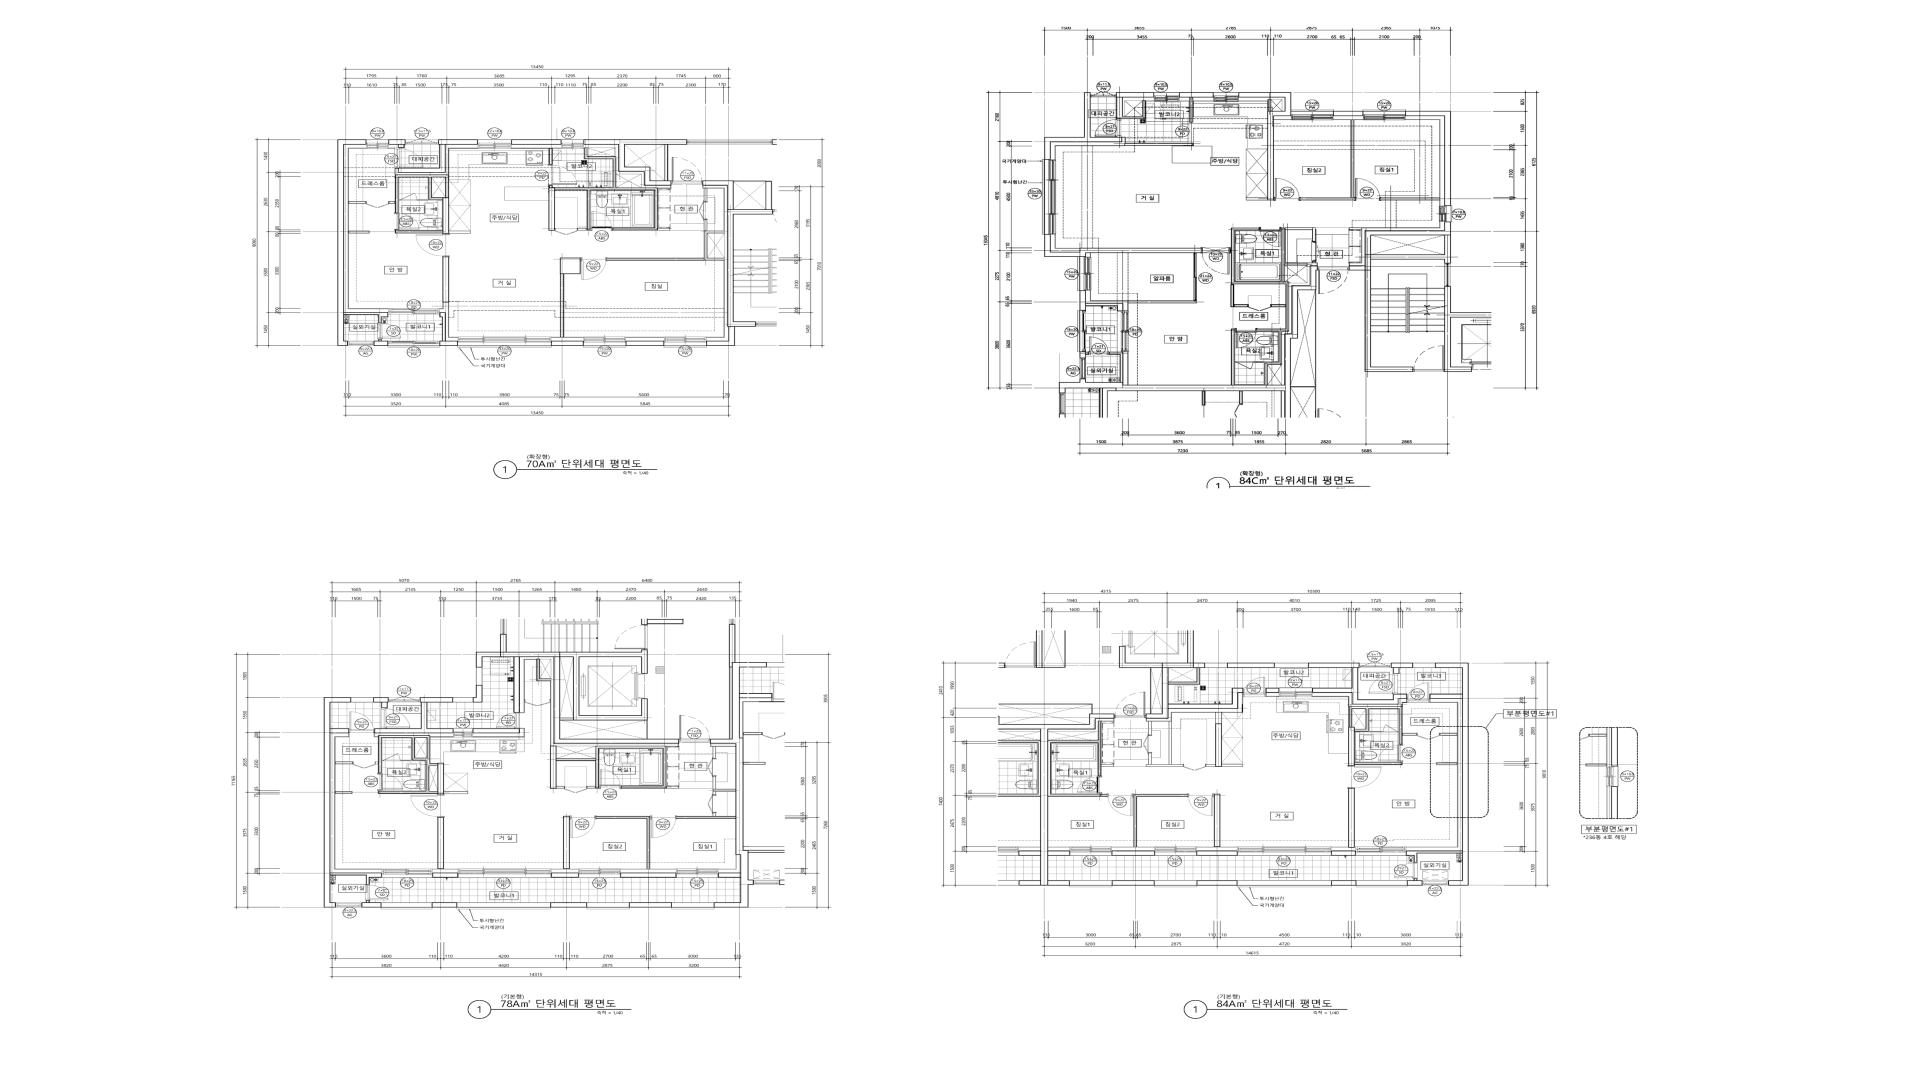door: (1317, 266, 1349, 294), (679, 715, 711, 741), (671, 157, 703, 183), (615, 625, 647, 650), (410, 794, 444, 818), (1201, 248, 1232, 274), (1414, 345, 1444, 372), (1114, 692, 1146, 717), (415, 233, 448, 257), (1349, 766, 1382, 789), (549, 165, 578, 186), (1369, 674, 1399, 694), (650, 816, 676, 839), (1354, 178, 1381, 200), (1274, 178, 1300, 200), (1108, 794, 1134, 816), (1188, 794, 1215, 816), (381, 708, 410, 728), (394, 148, 423, 167), (348, 712, 375, 733), (570, 816, 596, 837), (580, 258, 607, 280), (1095, 119, 1121, 137), (599, 769, 621, 789), (1234, 328, 1257, 348), (591, 211, 613, 231), (1244, 676, 1266, 696), (1407, 683, 1429, 703), (1378, 745, 1403, 762), (1259, 228, 1282, 247), (378, 774, 402, 791), (1077, 777, 1101, 794), (1088, 336, 1109, 355), (378, 323, 401, 339), (1395, 862, 1418, 878), (496, 713, 520, 728), (367, 885, 388, 901), (1193, 253, 1197, 301), (1312, 241, 1320, 262), (525, 699, 550, 705), (1091, 91, 1116, 98), (352, 762, 376, 769), (365, 202, 389, 208), (1416, 733, 1440, 740), (564, 786, 587, 793), (1249, 305, 1271, 311), (555, 228, 578, 235), (708, 758, 716, 777), (1234, 361, 1253, 369), (699, 202, 707, 220), (1143, 735, 1151, 753), (382, 753, 400, 761), (708, 795, 716, 812), (400, 193, 417, 200), (1183, 765, 1207, 770), (1383, 725, 1399, 732)
wall: (1059, 265, 1317, 418), (676, 624, 749, 907), (476, 650, 679, 744), (607, 186, 728, 342), (1349, 222, 1451, 372), (520, 657, 679, 746), (1406, 663, 1469, 886), (1232, 228, 1317, 385), (1040, 713, 1114, 886), (323, 698, 381, 907), (703, 181, 773, 345), (338, 140, 388, 345), (555, 145, 671, 231), (1120, 646, 1244, 719), (1406, 699, 1462, 851), (1146, 692, 1244, 766), (330, 733, 381, 873), (1238, 92, 1291, 200), (1044, 92, 1125, 160), (550, 746, 666, 789), (584, 140, 687, 186), (1300, 120, 1354, 200), (1406, 111, 1451, 206), (1444, 286, 1491, 372), (1308, 663, 1407, 704), (378, 736, 443, 794), (1044, 235, 1201, 257), (1349, 707, 1403, 766), (394, 140, 477, 175), (1134, 794, 1188, 847), (596, 816, 650, 869), (375, 698, 454, 733), (1291, 290, 1316, 388), (389, 175, 448, 214), (551, 274, 583, 342), (1371, 235, 1444, 255), (1312, 694, 1407, 707), (1116, 92, 1154, 119), (512, 145, 562, 165), (1080, 291, 1129, 311), (1048, 719, 1114, 732), (439, 302, 458, 342), (439, 313, 458, 345), (1122, 98, 1154, 116), (472, 728, 525, 737), (707, 233, 725, 258), (1109, 352, 1124, 382), (717, 855, 740, 873), (713, 777, 736, 795), (1232, 285, 1249, 307), (1168, 669, 1197, 682), (709, 744, 736, 758), (563, 816, 570, 869), (560, 257, 580, 274), (438, 818, 444, 869), (1179, 92, 1213, 102), (1349, 789, 1354, 848), (375, 733, 454, 737), (537, 659, 551, 680), (620, 873, 676, 878), (549, 186, 555, 231), (1352, 709, 1366, 729), (1333, 111, 1364, 120), (1216, 724, 1222, 766), (1215, 794, 1220, 847), (641, 618, 683, 625), (587, 148, 616, 157), (512, 140, 562, 145), (1228, 663, 1275, 669), (472, 728, 520, 733), (1391, 663, 1414, 674), (443, 257, 448, 302), (1112, 851, 1155, 856), (620, 869, 676, 873), (1112, 881, 1154, 886), (629, 902, 671, 907), (1196, 851, 1237, 856), (1197, 881, 1237, 886), (1269, 98, 1284, 111), (394, 229, 443, 233), (729, 667, 732, 738), (551, 902, 587, 907), (443, 198, 448, 233), (472, 686, 483, 703), (1129, 301, 1196, 303), (1112, 847, 1155, 851), (373, 698, 389, 708), (1196, 847, 1237, 851), (1381, 198, 1440, 200), (1232, 328, 1234, 385), (626, 338, 663, 342), (626, 342, 663, 345), (551, 873, 579, 878), (433, 873, 458, 878), (361, 901, 381, 907), (1332, 881, 1356, 886), (1407, 878, 1423, 886), (433, 902, 456, 907), (551, 342, 583, 345), (389, 140, 405, 148), (1332, 851, 1356, 856), (551, 869, 579, 873), (1189, 98, 1193, 123), (433, 869, 458, 873), (373, 339, 388, 345), (665, 145, 667, 181), (1332, 847, 1356, 851), (1125, 144, 1193, 145), (1048, 847, 1069, 851), (443, 791, 468, 794), (448, 231, 471, 233), (1150, 669, 1151, 713), (348, 231, 369, 233), (1246, 198, 1267, 200), (1266, 692, 1279, 696), (1266, 688, 1279, 692), (348, 202, 365, 204), (1080, 352, 1087, 359), (733, 181, 766, 182), (389, 145, 398, 149), (1403, 733, 1416, 736), (666, 786, 679, 789), (560, 717, 574, 720), (1222, 765, 1244, 766), (587, 786, 596, 789), (556, 786, 564, 789), (1101, 765, 1114, 766), (400, 760, 411, 761), (1253, 361, 1265, 363), (1349, 228, 1361, 229), (417, 199, 427, 200), (1207, 765, 1216, 766), (713, 812, 716, 816), (376, 762, 378, 765), (1087, 352, 1088, 355), (1370, 732, 1383, 732)
window: (1042, 160, 1056, 235), (458, 338, 551, 348), (1237, 847, 1332, 856), (458, 869, 551, 878), (456, 903, 551, 910), (1237, 881, 1332, 887), (381, 869, 433, 878), (1356, 847, 1406, 856), (583, 338, 626, 348), (663, 338, 707, 348), (1291, 109, 1335, 120), (1077, 257, 1091, 291), (1364, 109, 1406, 120), (676, 869, 719, 878), (1077, 310, 1087, 352), (1069, 847, 1112, 856), (579, 869, 620, 878), (1155, 847, 1196, 856), (388, 342, 440, 348), (671, 902, 715, 910), (381, 903, 433, 910), (1356, 881, 1407, 887), (587, 902, 629, 910), (1121, 311, 1129, 352), (477, 140, 512, 149), (1154, 881, 1197, 887), (1069, 881, 1112, 887), (388, 309, 439, 314), (1279, 688, 1312, 696), (1154, 92, 1179, 102), (1213, 92, 1238, 102), (405, 138, 438, 145), (388, 696, 419, 703), (562, 140, 584, 149), (367, 140, 389, 149), (1440, 206, 1452, 222), (1275, 663, 1308, 669), (454, 728, 472, 737), (1360, 662, 1391, 667), (1444, 262, 1451, 286), (335, 902, 361, 907), (1080, 359, 1087, 378), (476, 667, 483, 686), (351, 698, 373, 703), (452, 698, 472, 703), (348, 342, 373, 345), (1423, 881, 1448, 885), (1205, 663, 1228, 667), (1414, 663, 1435, 667)
